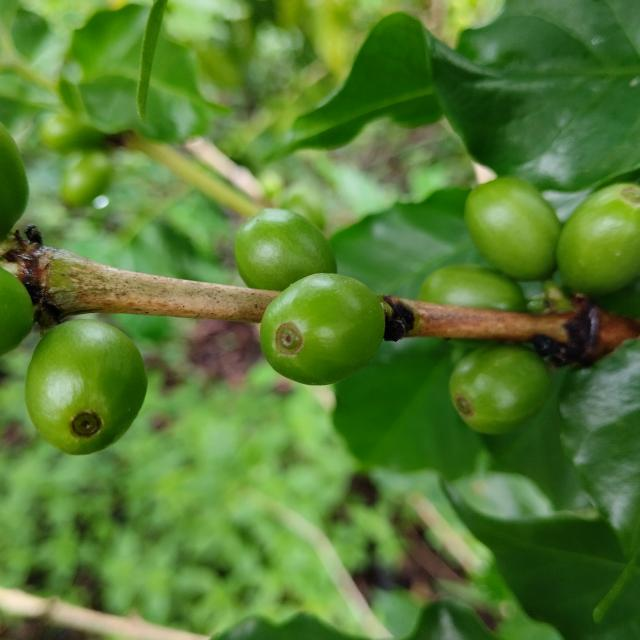green: (24, 320, 147, 455), (260, 273, 385, 385), (466, 177, 562, 280), (558, 183, 640, 295), (450, 345, 552, 434), (235, 208, 337, 291), (420, 264, 527, 312), (0, 122, 28, 239), (0, 268, 33, 356)
